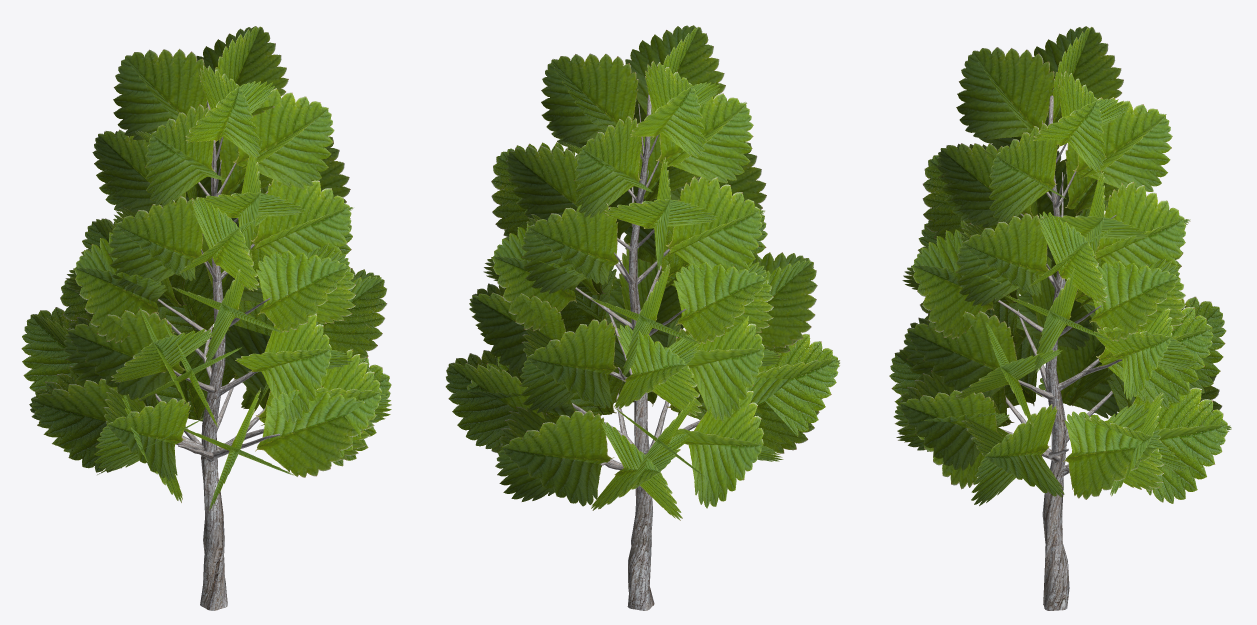
The model's file is demotree.fbx.
3 renders of one model, left to right at view 1: azimuth 30°, elevation 25°; view 2: azimuth 150°, elevation 25°; view 3: azimuth 270°, elevation 25°, orthographic.
Visible parts, largest first — view 1: Tree_1, Tree_0; view 2: Tree_1, Tree_0; view 3: Tree_1, Tree_0.
Boxes of the visible parts, left/top/right/bottom form: Tree_1: left=21, top=26, right=391, bottom=510; Tree_0: left=155, top=101, right=279, bottom=610; Tree_1: left=445, top=25, right=839, bottom=520; Tree_0: left=572, top=94, right=700, bottom=610; Tree_1: left=889, top=26, right=1231, bottom=505; Tree_0: left=994, top=95, right=1122, bottom=610.
Bounding box in the file's own units: 52.47 × 88.06 × 51.97.
Materials: 2 (2 with a texture image).
